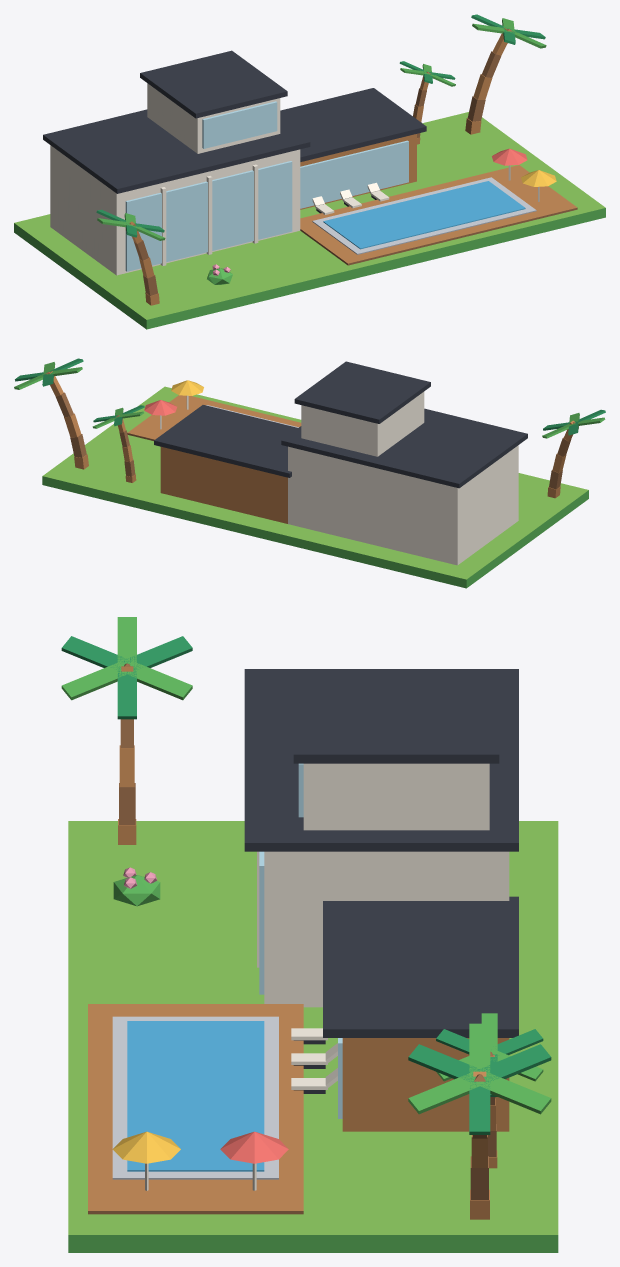
The model's file is house_villa_pool.glb.
3 views of the same model, one above another, from view 1: azimuth 30°, elevation 25°; view 2: azimuth 150°, elevation 25°; view 3: azimuth 270°, elevation 25° (orthographic). The views are drawn at different scales.
Visible parts, largest first — view 1: house_villa_pool; view 2: house_villa_pool; view 3: house_villa_pool.
Boxes of the visible parts, x1,y1,x2,y2 form: house_villa_pool: [14, 14, 605, 329]; house_villa_pool: [14, 358, 605, 588]; house_villa_pool: [61, 617, 558, 1252].
Bounding box in the file's own units: 2.35 × 0.6025 × 1.01.
